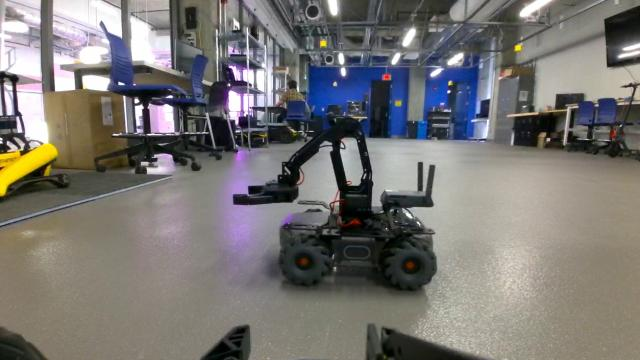robot: (228, 113, 443, 296)
